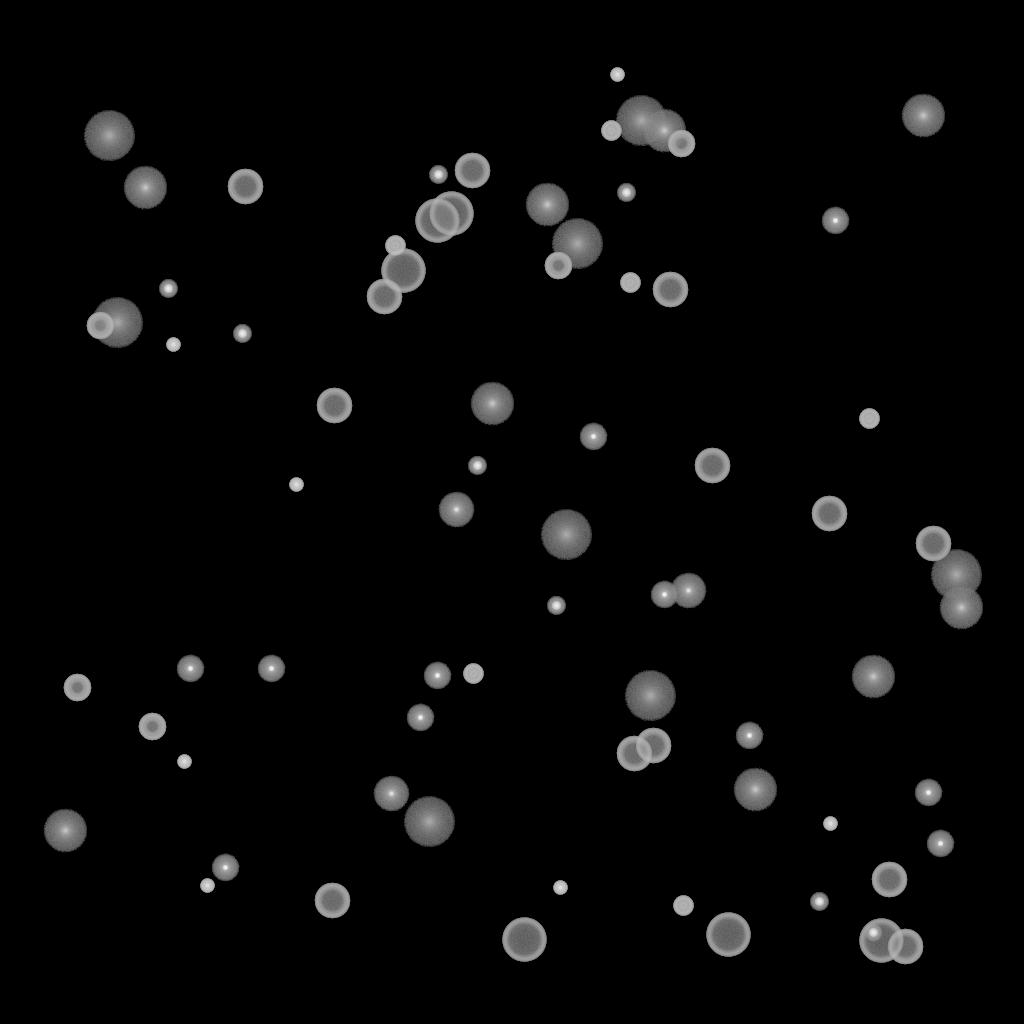depth:-10: (926, 830, 954, 858), (579, 423, 607, 451), (211, 854, 239, 882), (914, 779, 942, 807), (406, 704, 434, 732), (650, 581, 678, 609), (176, 655, 204, 683), (735, 722, 763, 750), (821, 207, 849, 235), (257, 655, 285, 683), (423, 662, 451, 690)
depth:-20: (159, 280, 177, 298), (468, 457, 486, 475), (617, 184, 635, 202), (810, 893, 828, 911), (547, 597, 565, 615), (233, 325, 251, 343), (429, 166, 447, 184), (864, 924, 882, 942)
depth:-30: (166, 338, 180, 352), (553, 881, 567, 895), (610, 68, 624, 82), (177, 755, 191, 769), (289, 478, 303, 492), (200, 879, 214, 893), (823, 817, 837, 831)
depth:-40: (385, 236, 405, 256), (620, 273, 640, 293), (601, 121, 621, 141), (859, 409, 879, 429), (673, 896, 693, 916), (463, 664, 483, 684)
depth:-50: (138, 713, 166, 741), (667, 130, 695, 158), (86, 312, 114, 340), (544, 252, 572, 280), (63, 674, 91, 702)
depth:-60: (616, 736, 652, 772), (811, 496, 847, 532), (316, 388, 352, 424), (871, 862, 907, 898), (314, 883, 350, 919), (887, 929, 923, 965), (915, 526, 951, 562), (694, 448, 730, 484), (454, 153, 490, 189), (635, 728, 671, 764), (652, 272, 688, 308), (227, 169, 263, 205), (366, 279, 402, 315)
depth:-70: (381, 249, 425, 293), (429, 192, 473, 236), (502, 918, 546, 962), (415, 199, 459, 243), (859, 919, 903, 963), (706, 913, 750, 957)
depth:0: (373, 776, 409, 812), (438, 492, 474, 528), (670, 573, 706, 609)
depth:10: (642, 109, 686, 153), (470, 382, 514, 426), (939, 586, 983, 630), (901, 94, 945, 138), (851, 655, 895, 699), (525, 183, 569, 227), (733, 768, 777, 812), (43, 809, 87, 853), (123, 166, 167, 210)
depth:20: (403, 797, 455, 847), (930, 550, 982, 600), (91, 298, 143, 348), (540, 510, 592, 560), (615, 96, 667, 146), (83, 111, 135, 161), (624, 671, 676, 721), (551, 219, 603, 269)
